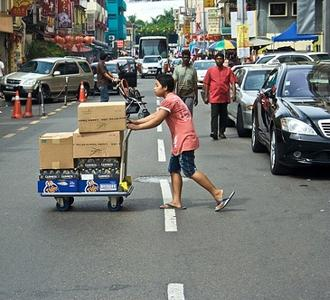person: (129, 72, 226, 211)
